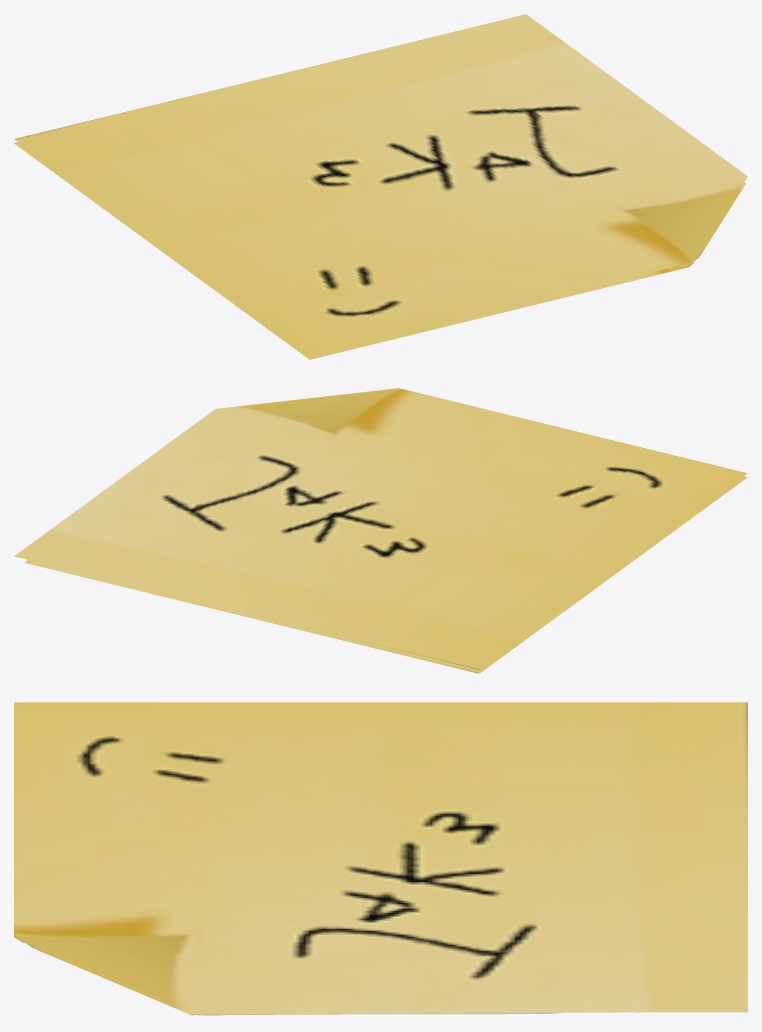
The model's file is papel contraseña.fbx.
The picture shows the model from 3 angles, top to bottom: view 1: azimuth 30°, elevation 25°; view 2: azimuth 150°, elevation 25°; view 3: azimuth 270°, elevation 25°; orthographic projection. The views are drawn at different scales.
Visible parts, largest first — view 1: Cubo; view 2: Cubo; view 3: Cubo.
Part boxes in pixels (left/top/right/bottom): Cubo: left=14, top=14, right=747, bottom=359; Cubo: left=14, top=388, right=747, bottom=673; Cubo: left=14, top=702, right=747, bottom=1015.
Size of the model in its own units: 200 by 1.6 by 200.
Materials: 1 (1 with a texture image).
